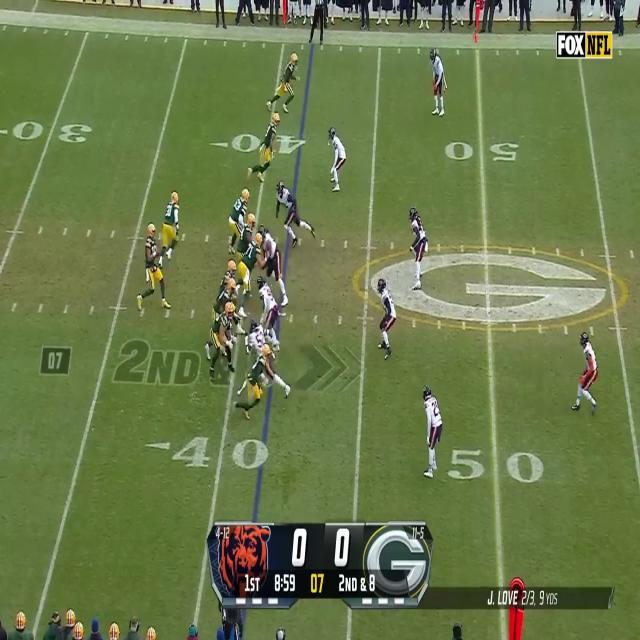Player: (137, 221, 169, 314), (574, 330, 599, 413), (422, 383, 443, 480), (208, 301, 235, 372), (156, 190, 180, 264), (243, 345, 271, 407), (274, 180, 300, 246), (408, 207, 428, 291), (376, 278, 396, 361), (256, 111, 280, 180), (327, 126, 348, 192), (277, 53, 300, 113), (257, 274, 280, 330), (239, 231, 260, 292), (429, 47, 446, 116), (260, 225, 280, 281), (228, 187, 250, 236), (244, 317, 265, 354), (212, 279, 235, 308), (238, 213, 256, 250)
